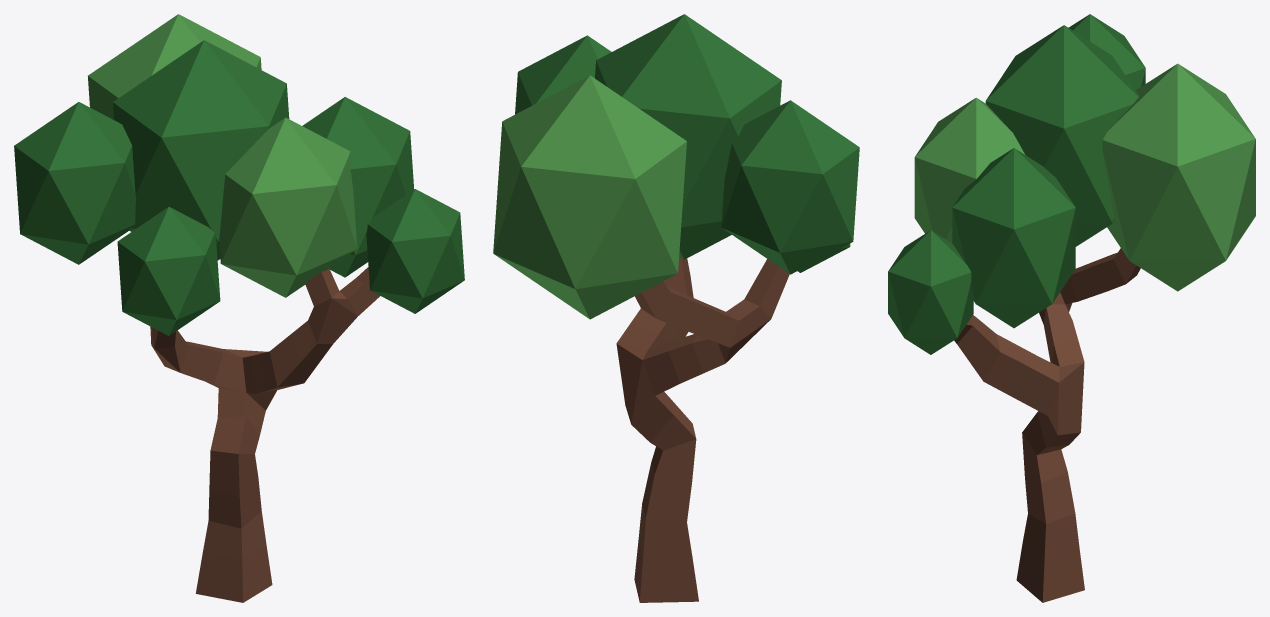
The model's file is Tree1.fbx.
The picture shows the model from 3 angles, left to right: view 1: azimuth 30°, elevation 25°; view 2: azimuth 150°, elevation 25°; view 3: azimuth 270°, elevation 25°; orthographic projection. The views are drawn at different scales.
Parts seen in each view (by area): view 1: Cube, Icosphere.005, Icosphere.001, Icosphere.006, Icosphere.002, Icosphere, Icosphere.004, Icosphere.003; view 2: Icosphere.003, Cube, Icosphere.005, Icosphere.006, Icosphere.004; view 3: Icosphere.003, Cube, Icosphere.005, Icosphere.004, Icosphere.001, Icosphere, Icosphere.006.
Part boxes in pixels (x1,y1,x2,y2): Cube: [150, 267, 379, 602]; Icosphere.005: [113, 40, 289, 260]; Icosphere.001: [219, 117, 357, 297]; Icosphere.006: [14, 102, 135, 264]; Icosphere.002: [117, 206, 220, 335]; Icosphere: [366, 189, 464, 313]; Icosphere.004: [302, 97, 414, 277]; Icosphere.003: [88, 14, 261, 119]; Icosphere.003: [493, 75, 686, 319]; Cube: [616, 256, 789, 602]; Icosphere.005: [595, 14, 781, 259]; Icosphere.006: [721, 100, 859, 274]; Icosphere.004: [515, 35, 611, 114]; Icosphere.003: [1102, 63, 1255, 291]; Cube: [954, 248, 1140, 602]; Icosphere.005: [985, 25, 1138, 246]; Icosphere.004: [952, 148, 1075, 328]; Icosphere.001: [914, 97, 1024, 243]; Icosphere: [888, 230, 973, 354]; Icosphere.006: [1068, 14, 1145, 90].
Size of the model in its own units: 595 by 870 by 527.
